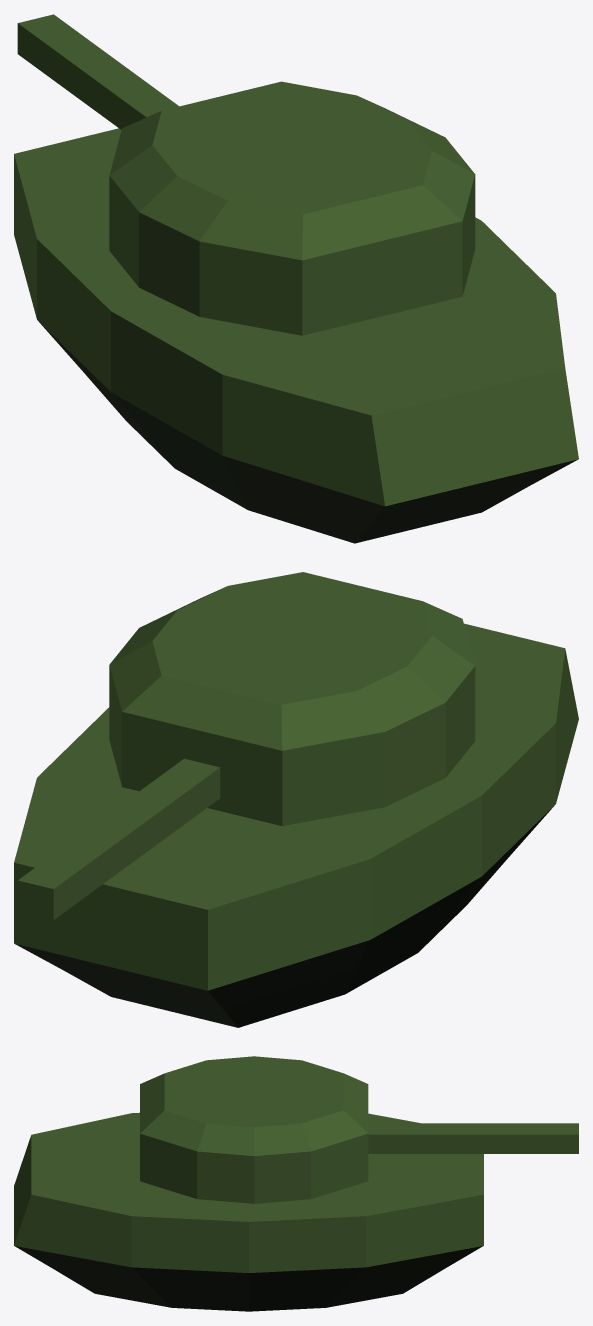
The model's file is tank.fbx.
The picture shows the model from 3 angles, top to bottom: view 1: azimuth 30°, elevation 25°; view 2: azimuth 150°, elevation 25°; view 3: azimuth 270°, elevation 25°; orthographic projection. The views are drawn at different scales.
Parts seen in each view (by area): view 1: Cube; view 2: Cube; view 3: Cube.
Boxes of the visible parts, x1=… form: Cube: x1=14, y1=14, x2=578, y2=543; Cube: x1=14, y1=572, x2=578, y2=1027; Cube: x1=14, y1=1056, x2=578, y2=1311.
Bounding box in the file's own units: 329 × 244 × 686.
